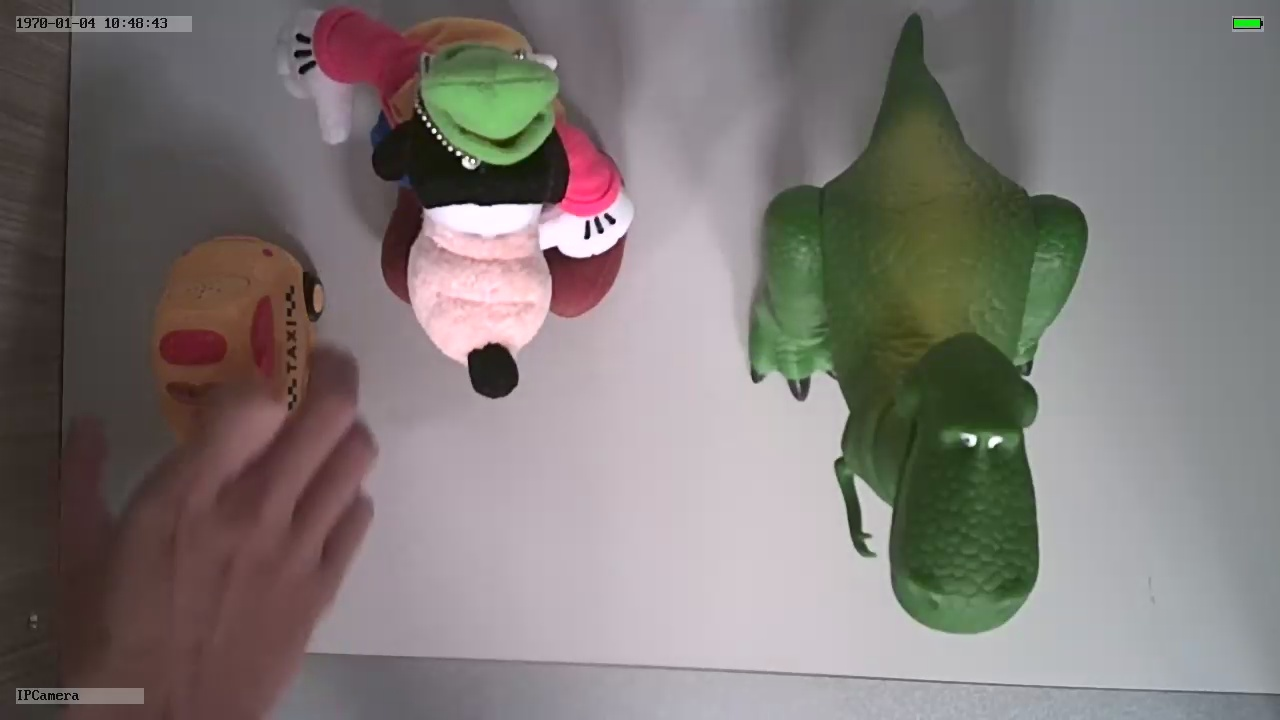goofy: (273, 13, 639, 399)
rex: (748, 95, 1091, 638)
